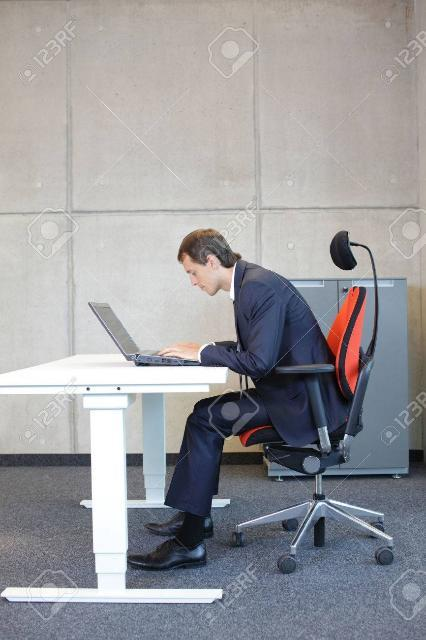bad-pose: (0, 0, 426, 640)
